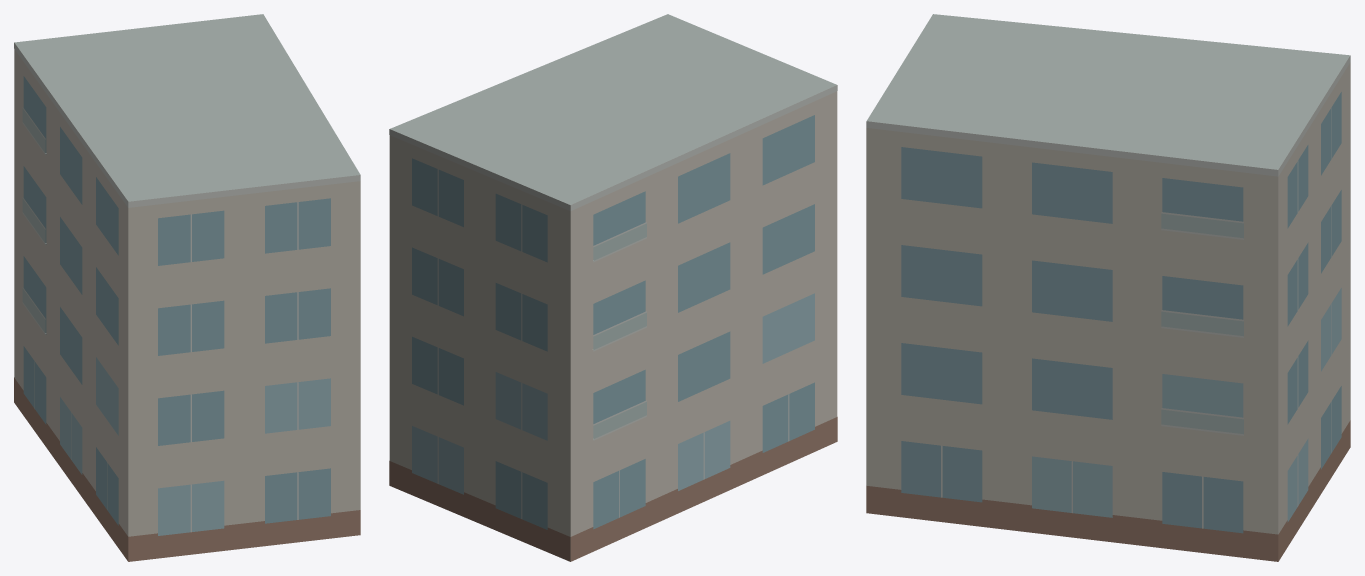
Rendered from survey-upis-32947736.glb.
3 renders of one model, left to right at view 1: azimuth 30°, elevation 25°; view 2: azimuth 150°, elevation 25°; view 3: azimuth 270°, elevation 25°, orthographic. The views are drawn at different scales.
Parts seen in each view (by area): view 1: survey-upis-32947736.tmp; view 2: survey-upis-32947736.tmp; view 3: survey-upis-32947736.tmp.
Part boxes in pixels (<box>): survey-upis-32947736.tmp: <box>14,14,360,561</box>; survey-upis-32947736.tmp: <box>389,14,837,561</box>; survey-upis-32947736.tmp: <box>866,14,1350,561</box>.
Size of the model in its own units: 12.21 by 14.3 by 16.02.
